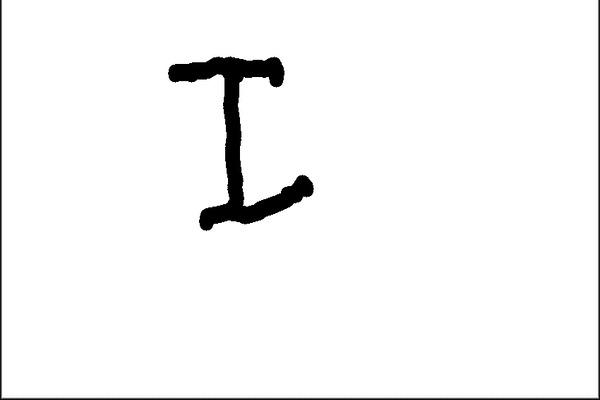i: (161, 50, 318, 234)
